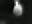person: (12, 1, 25, 18)
